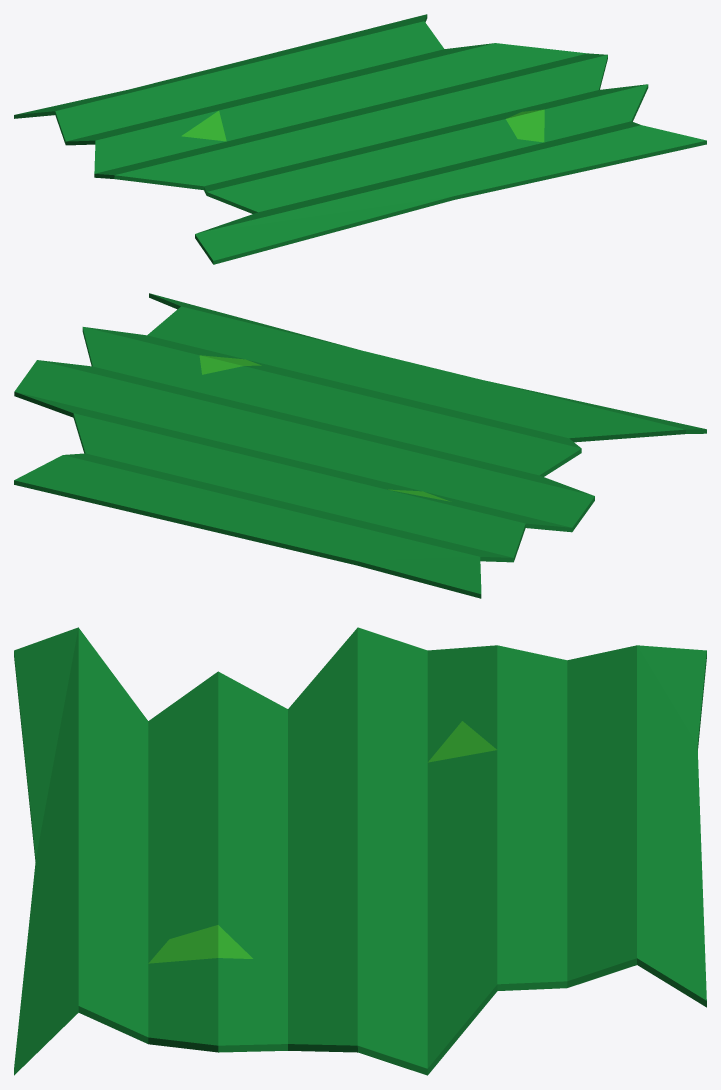
Rendered from SheetMetal_E_2.fbx.
3 renders of one model, top to bottom at view 1: azimuth 30°, elevation 25°; view 2: azimuth 150°, elevation 25°; view 3: azimuth 270°, elevation 25°, orthographic. The views are drawn at different scales.
Parts seen in each view (by area): view 1: SheetMetal_E_2; view 2: SheetMetal_E_2; view 3: SheetMetal_E_2.
Part boxes in pixels (left/top/right/bottom): SheetMetal_E_2: left=14, top=14, right=706, bottom=264; SheetMetal_E_2: left=14, top=293, right=706, bottom=598; SheetMetal_E_2: left=14, top=627, right=706, bottom=1075.
Size of the model in its own units: 137 by 4.58 by 96.05.
